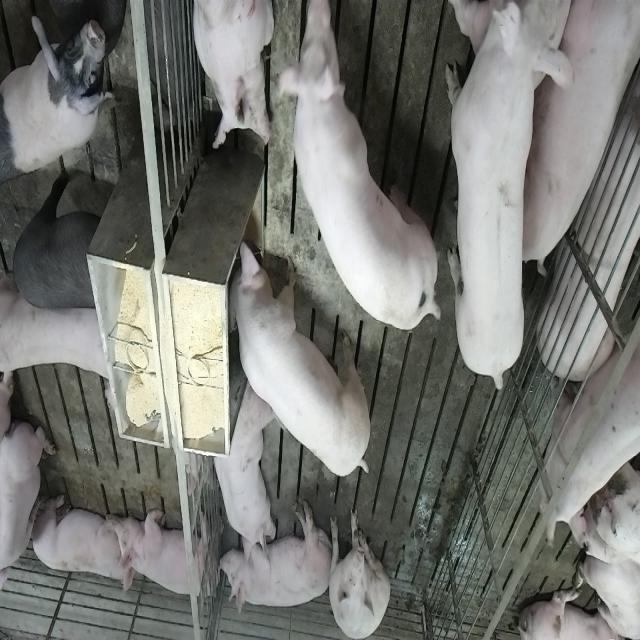Feeding: (219, 234, 368, 479)
Lateral_lying: (523, 0, 640, 272), (217, 499, 333, 619)
Sitting: (326, 506, 390, 638)
Standing: (272, 3, 438, 332), (443, 1, 571, 392), (542, 306, 640, 542), (2, 11, 118, 180), (10, 169, 110, 311), (3, 267, 120, 385)
Sternal_lying: (190, 0, 274, 149), (209, 382, 273, 564), (29, 490, 131, 589), (3, 417, 55, 605), (117, 503, 215, 602)
